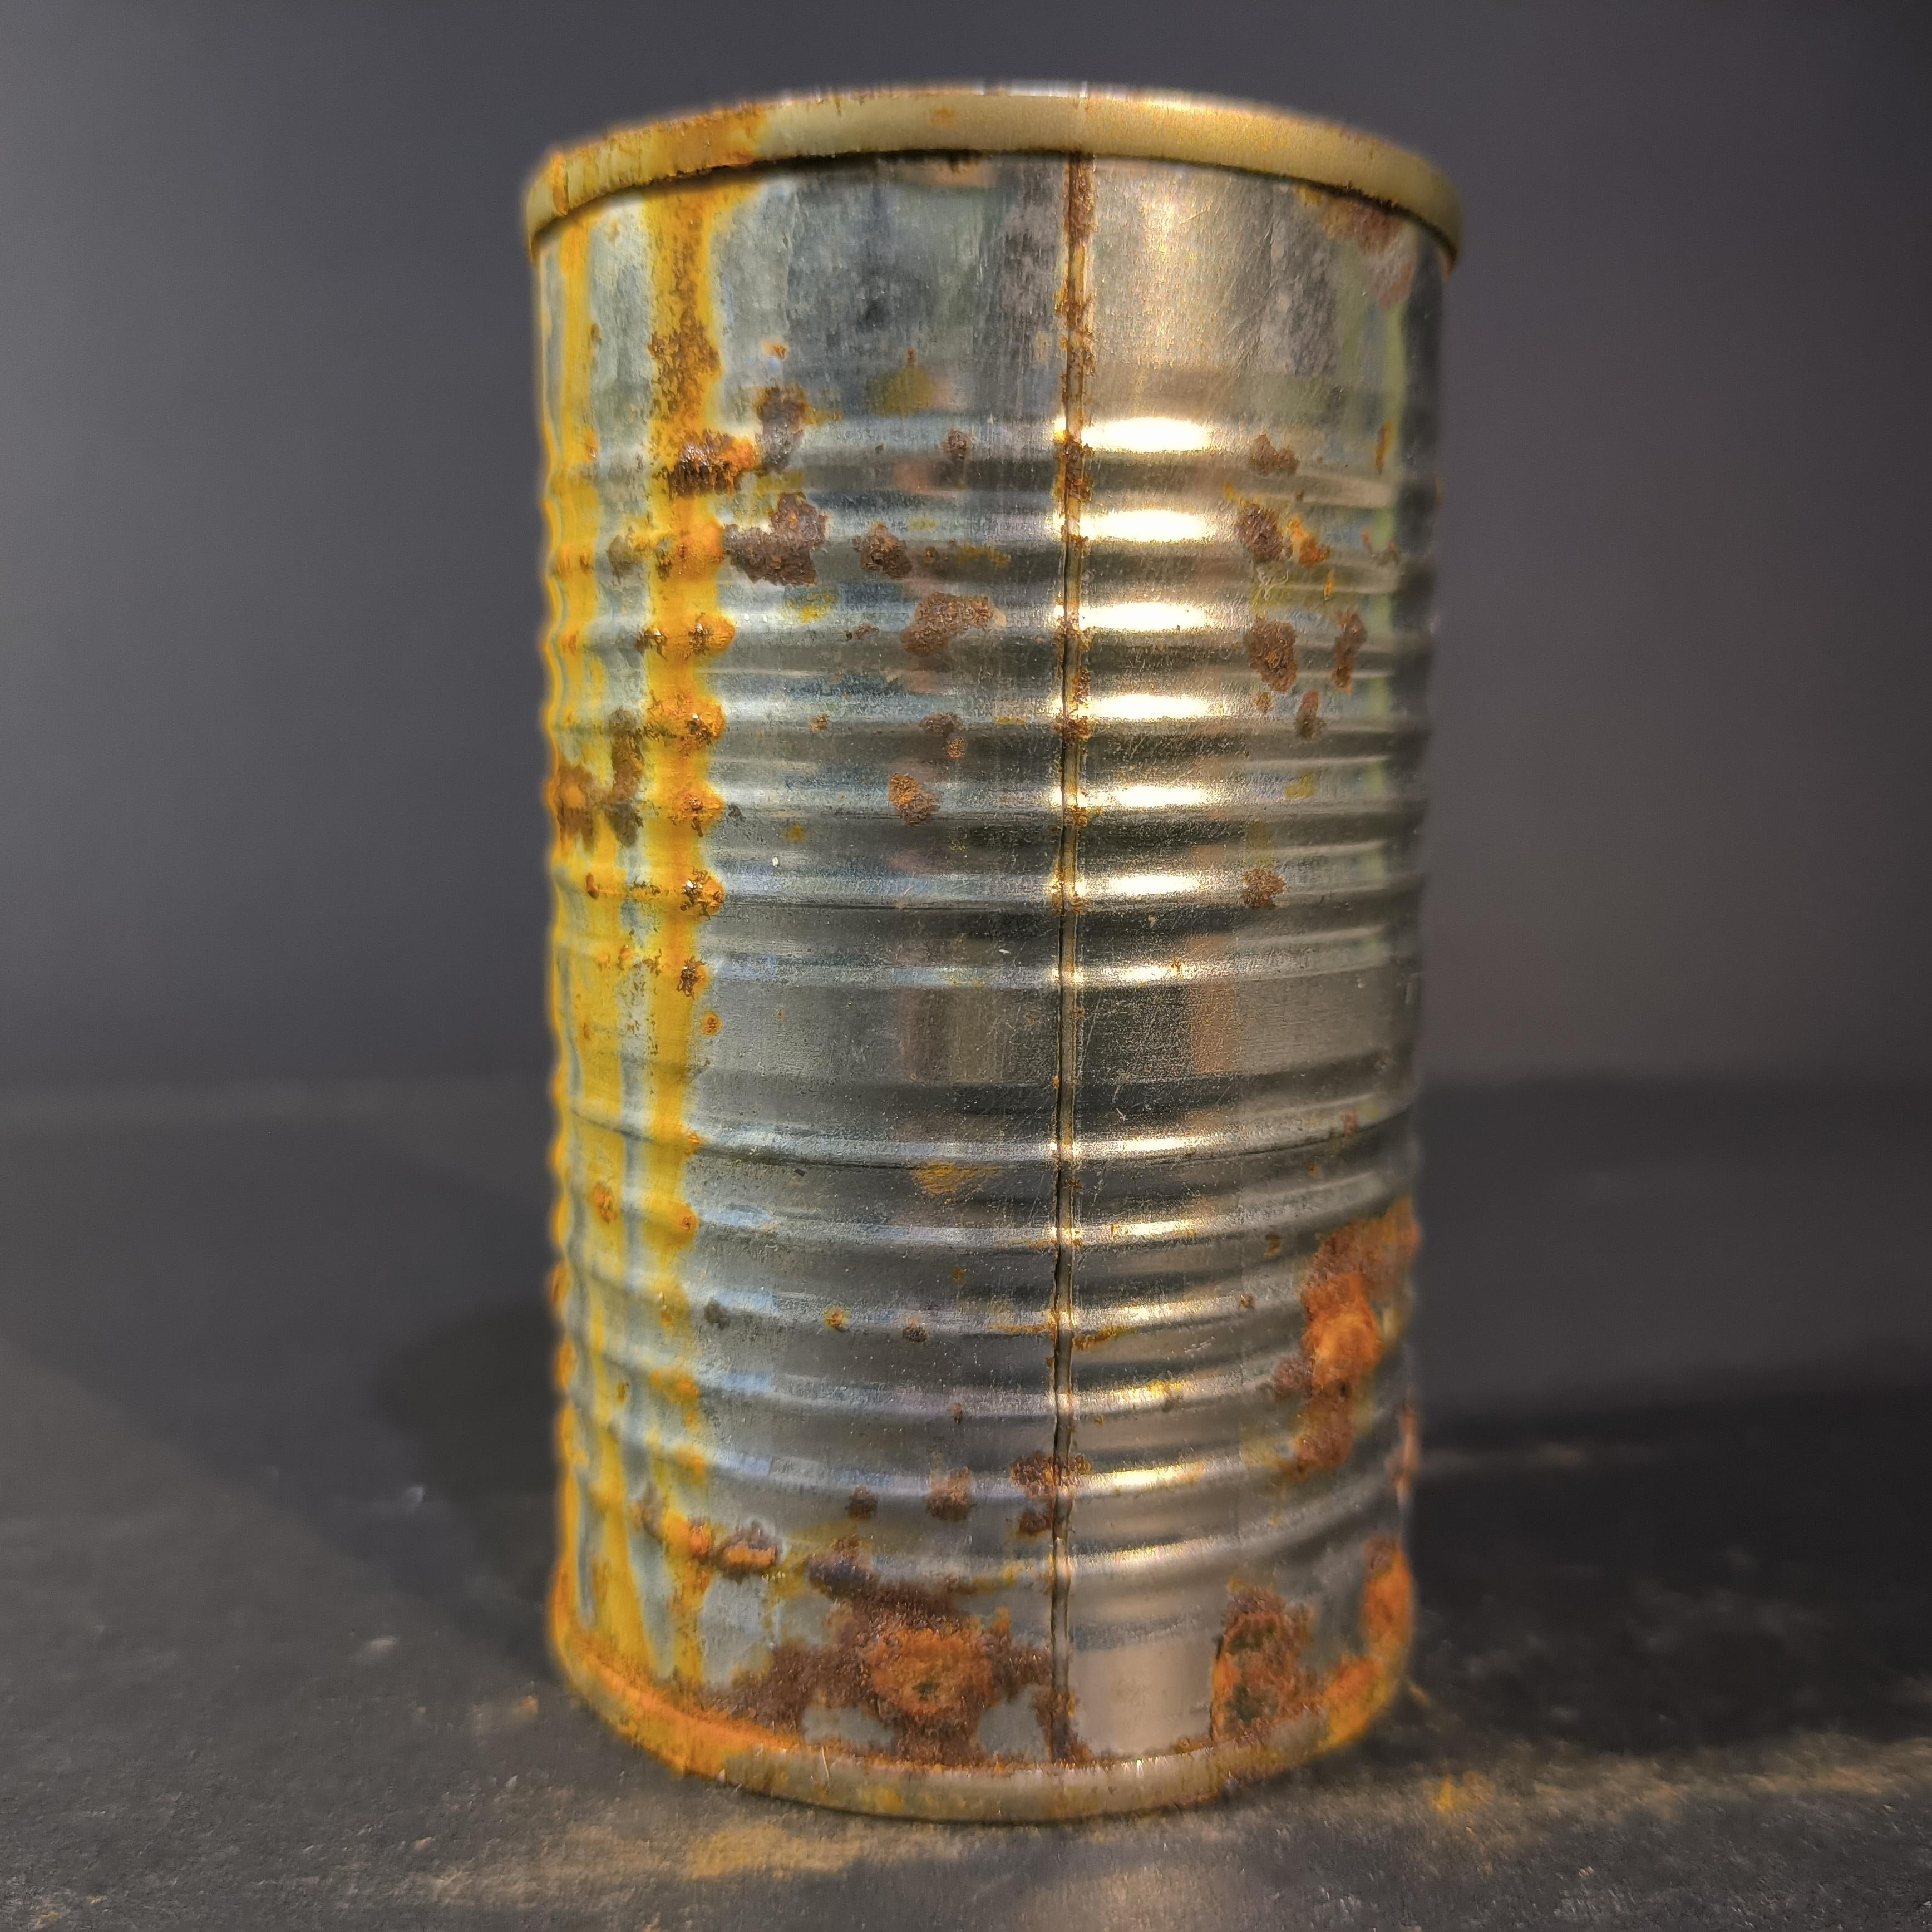Rusted: (487, 73, 1467, 1842)
